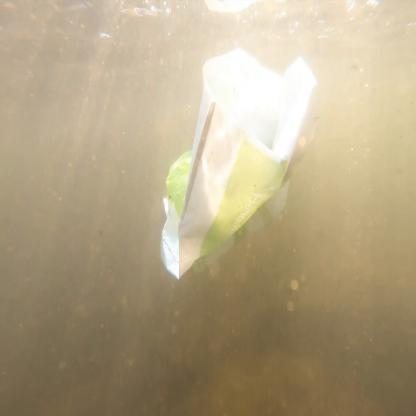Rác: (157, 37, 325, 274)
